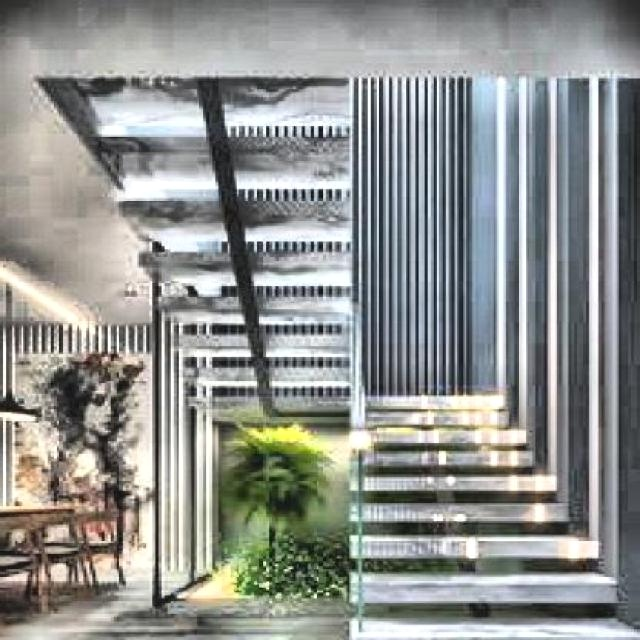stair: (343, 378, 597, 638)
